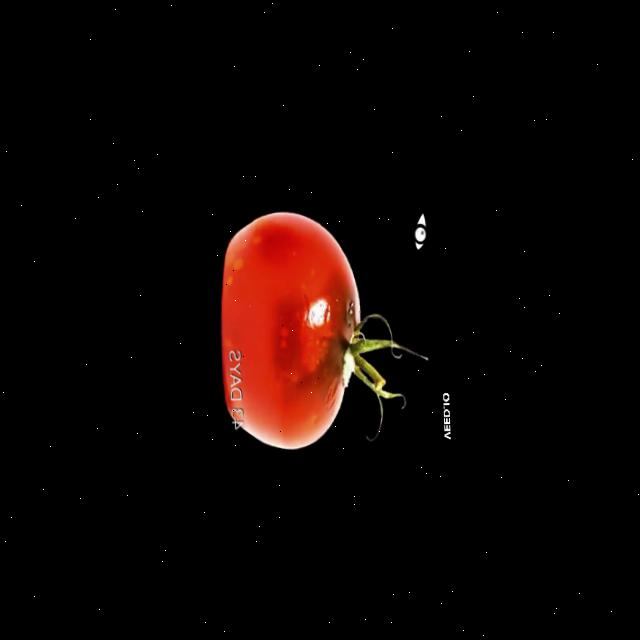tomato: (212, 204, 392, 452)
